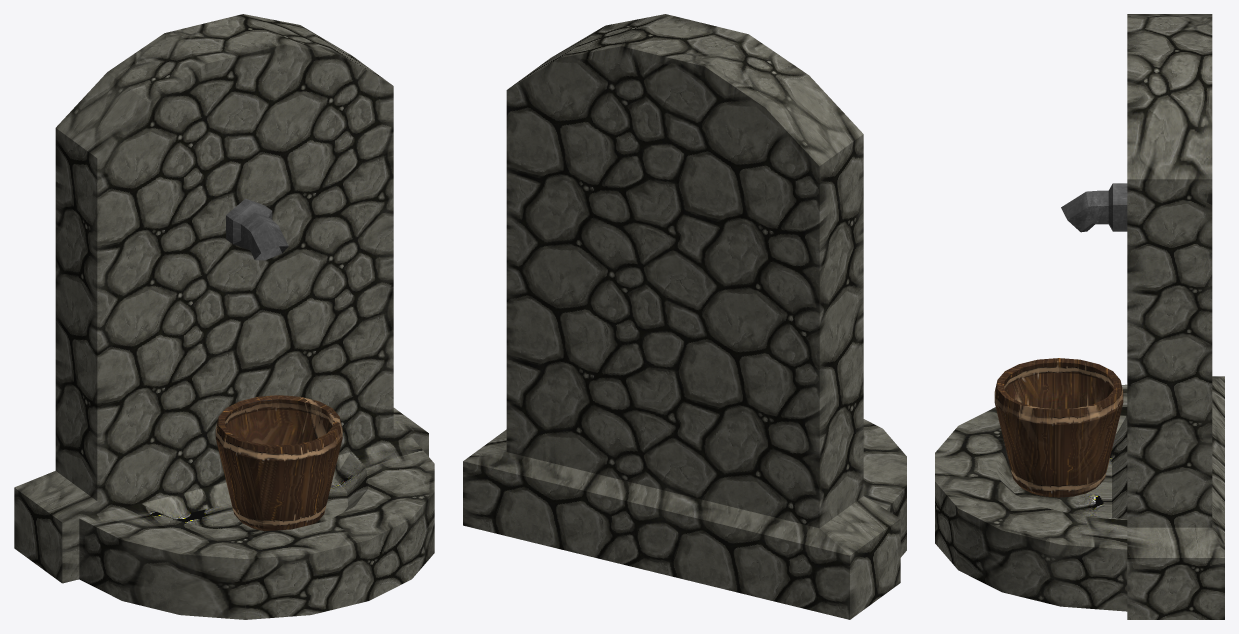
The model's file is fuente.obj.
3 views of the same model, side by side, from view 1: azimuth 30°, elevation 25°; view 2: azimuth 150°, elevation 25°; view 3: azimuth 270°, elevation 25° (orthographic). The views are drawn at different scales.
Parts seen in each view (by area): view 1: polySurface13 polySurface10, set1 polySurface10 polySurface14, polySurface10 polySurface15; view 2: polySurface13 polySurface10; view 3: polySurface13 polySurface10, set1 polySurface10 polySurface14, polySurface10 polySurface15.
Part boxes in pixels (x1,y1,x2,y2): polySurface13 polySurface10: (14, 14, 434, 619); set1 polySurface10 polySurface14: (215, 395, 342, 531); polySurface10 polySurface15: (226, 198, 288, 260); polySurface13 polySurface10: (463, 14, 906, 619); polySurface13 polySurface10: (935, 14, 1224, 619); set1 polySurface10 polySurface14: (994, 358, 1123, 497); polySurface10 polySurface15: (1061, 183, 1127, 232).
Bounding box in the file's own units: 12.05 × 15.22 × 8.12.
Materials: 1 (1 with a texture image).
